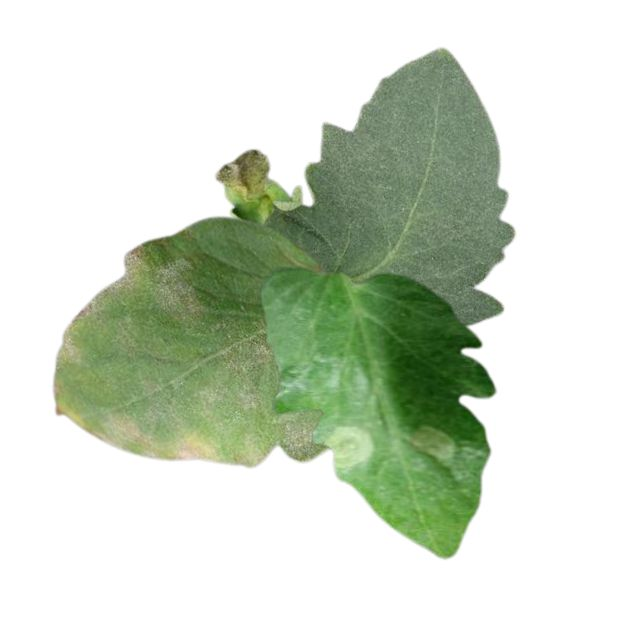Late_blight: (53, 244, 328, 470), (216, 145, 271, 201), (326, 424, 375, 470), (406, 424, 455, 464)
